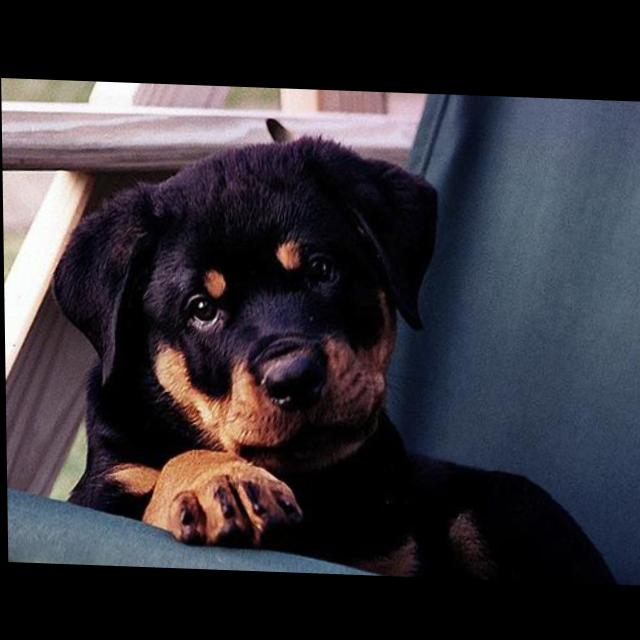rottweiler: (48, 128, 622, 581)
